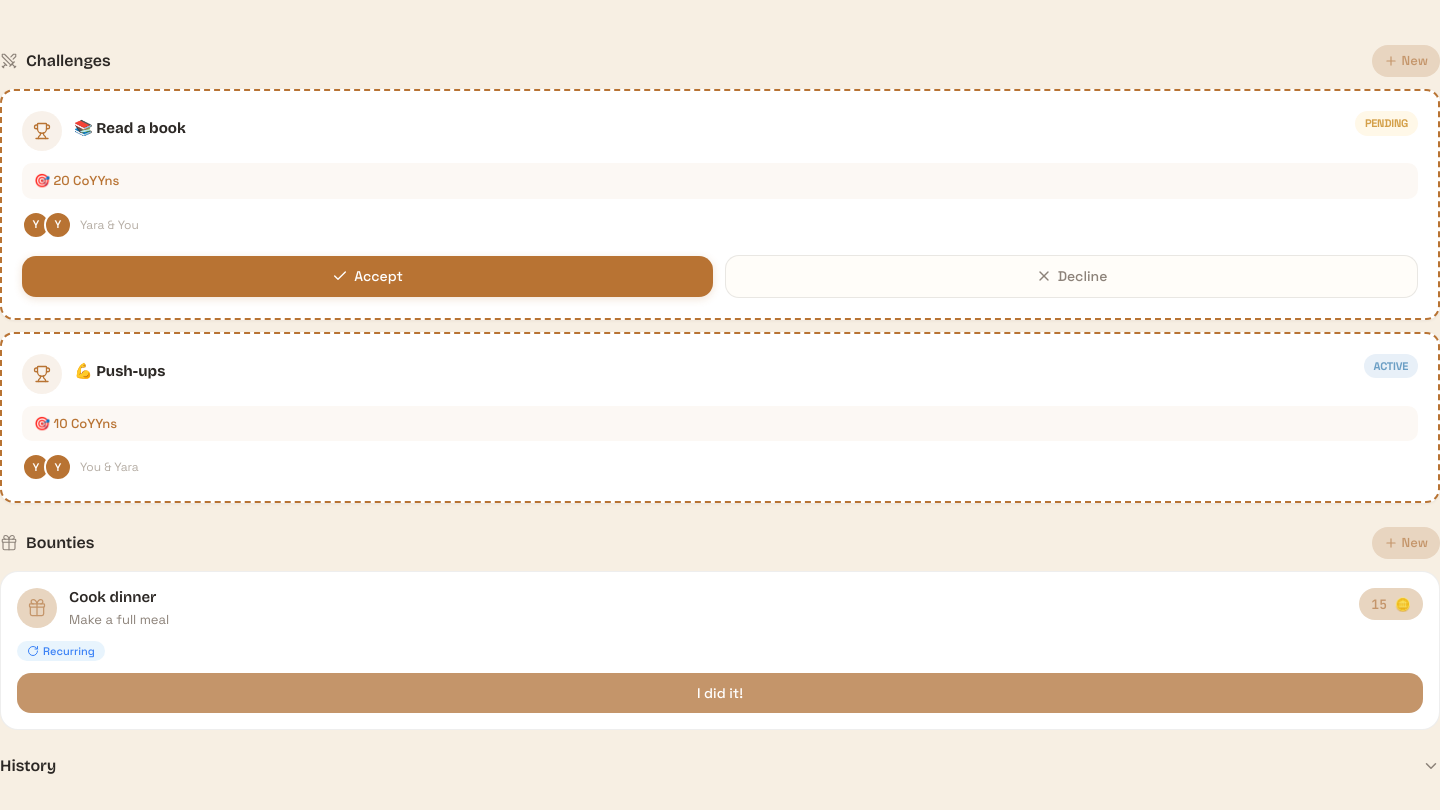
CoyynsTabPage › opens resolve flow when clicking on active challenge
The width and height of the screenshot is (1440, 810).
(page scrolled)
Click the element with test id "challenge-card-wrapper" at point(720, 417), box [0, 332, 1439, 503]
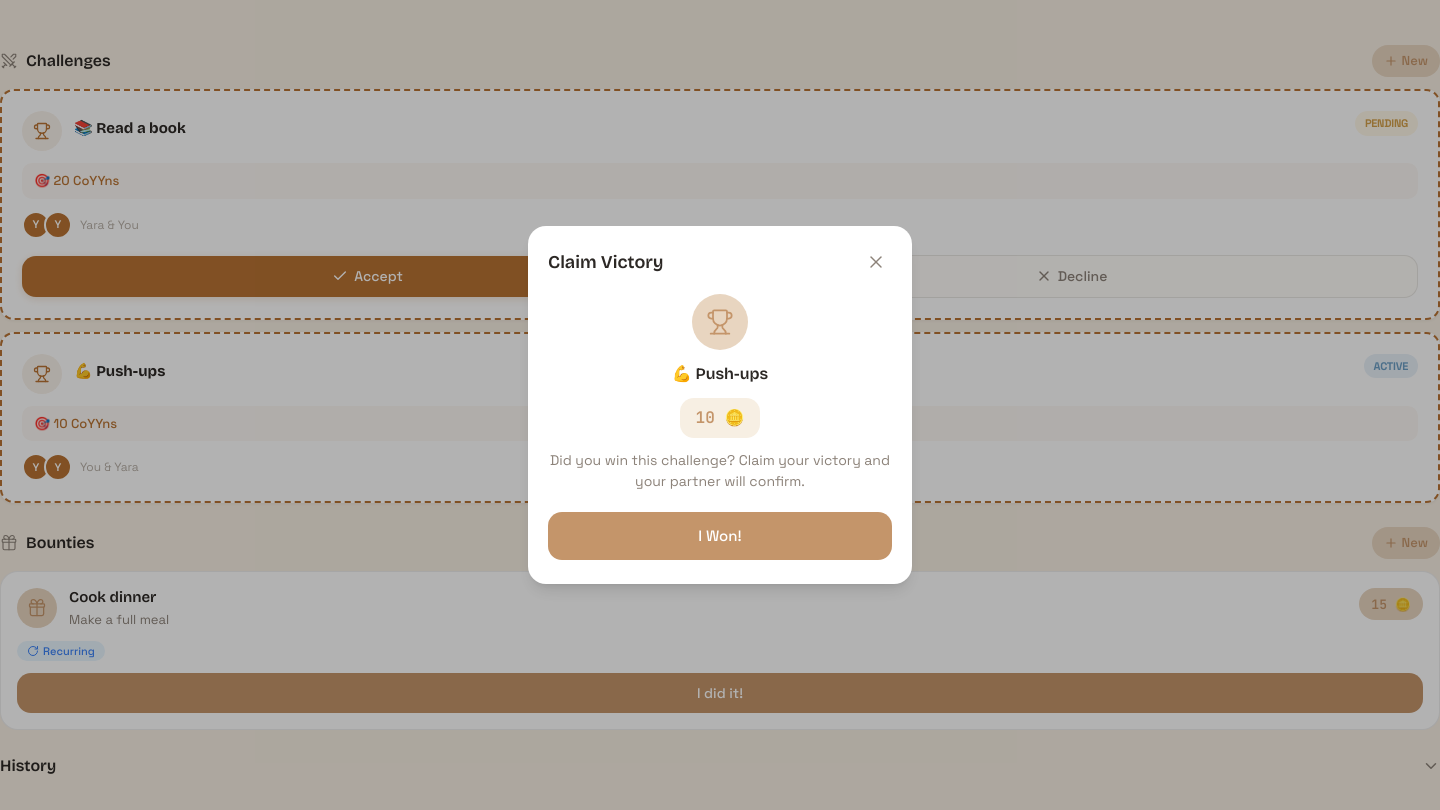
expect the dialog with test id "resolve-flow-dialog" is shown: met, box [528, 226, 912, 584]
